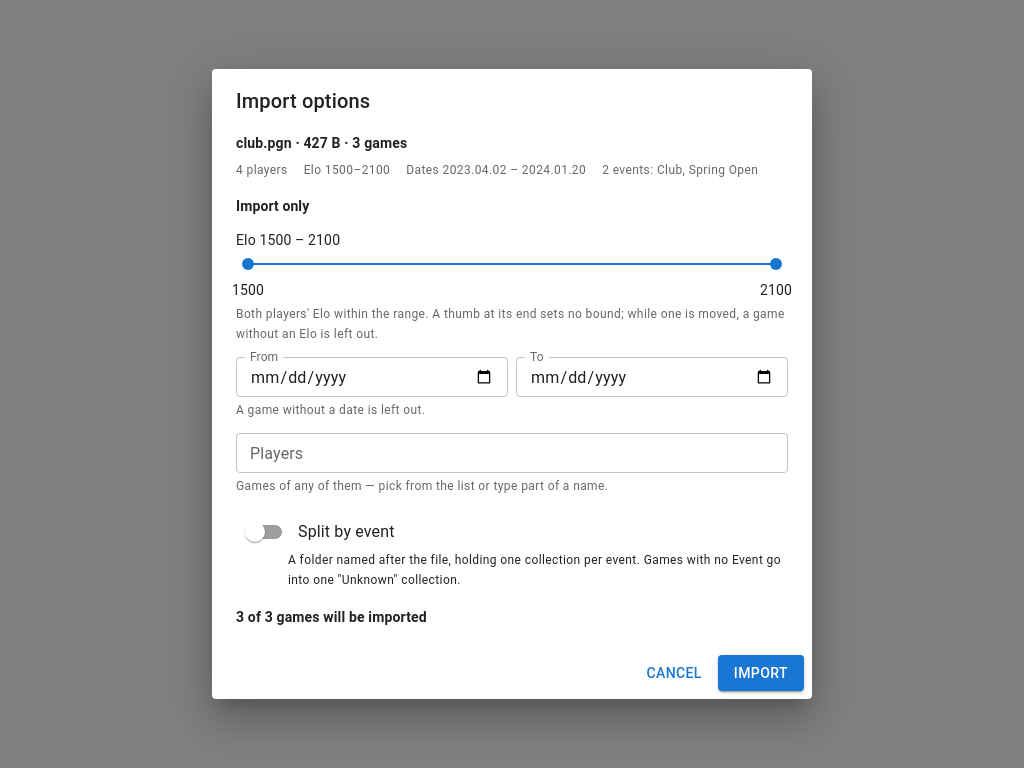
Test: CollectionImportDialog — Split by event (CTA-127) › follows the filters: what the Elo range leaves decides whether there is anything to split
This screenshot has width=1024, height=768.
Check: the switch with test id "import-split" is enabled, box [245,522,395,542]
Note: Only the two "Club" games (2023) are in range — one event left, nothing to split.
Step 1. Type "2023-01-01" into the date field with test id "import-from" → {"x": 372, "y": 377}, box [236,357,508,397]
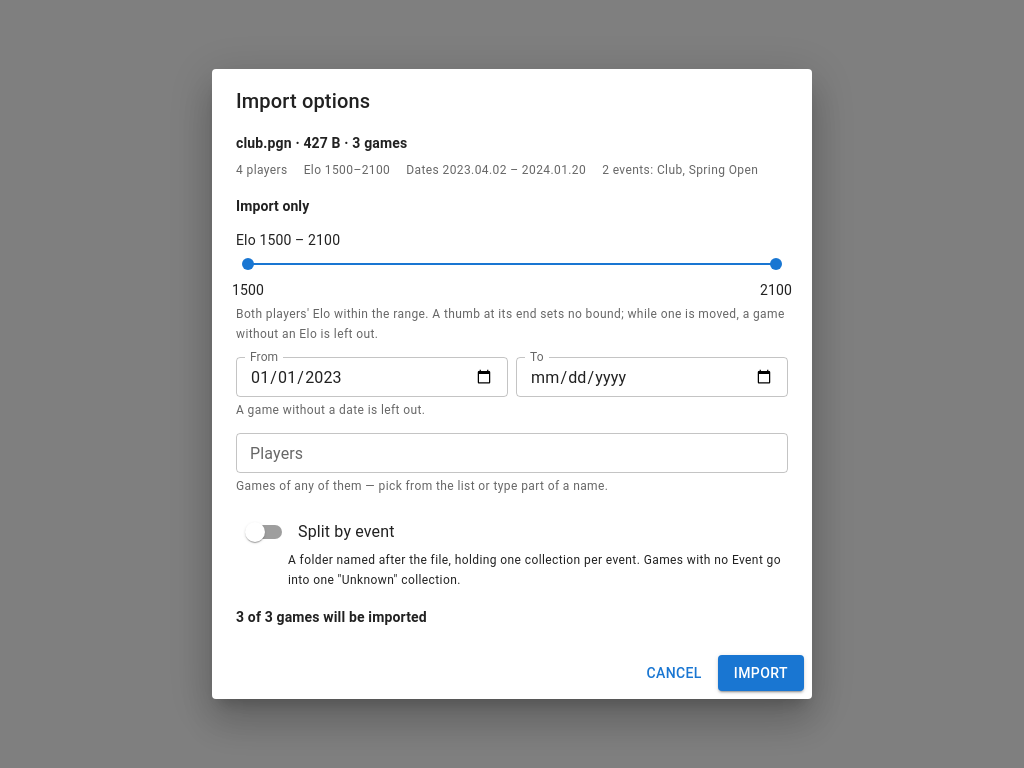
Step 2. Type "2023-12-31" into the date field with test id "import-to" → {"x": 652, "y": 377}, box [516,357,788,397]
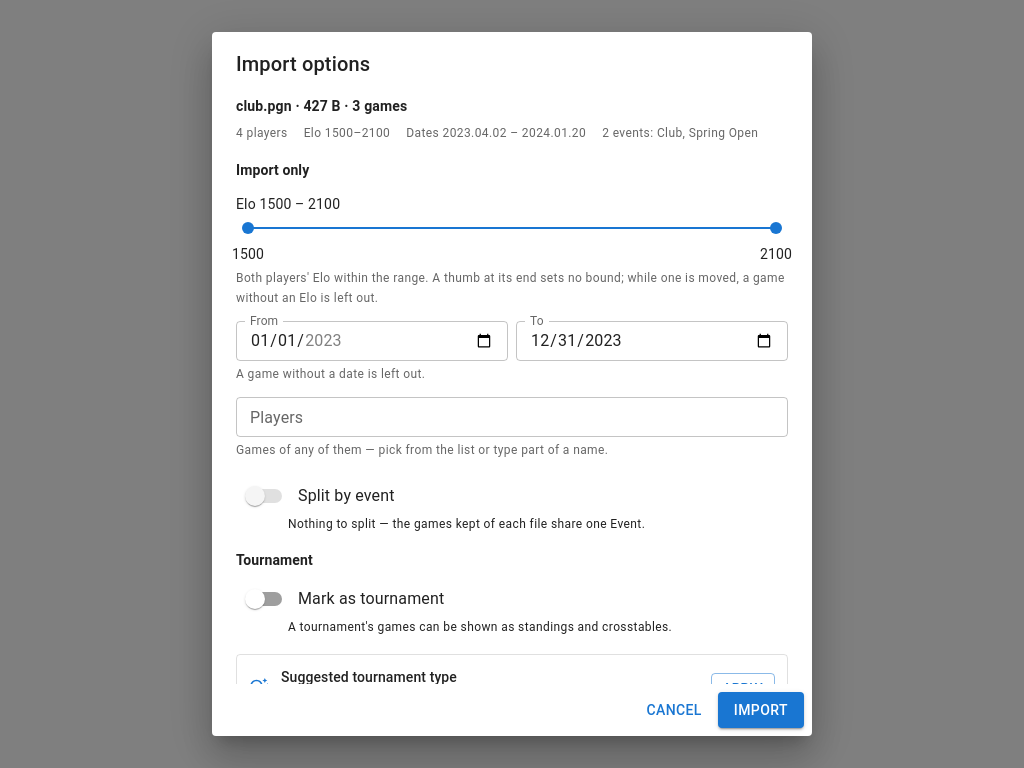
Check: the switch with test id "import-split" is disabled, box [245,486,395,506]
Check: the text with test id "import-split-help" shows "share one Event", box [288,516,645,530]
